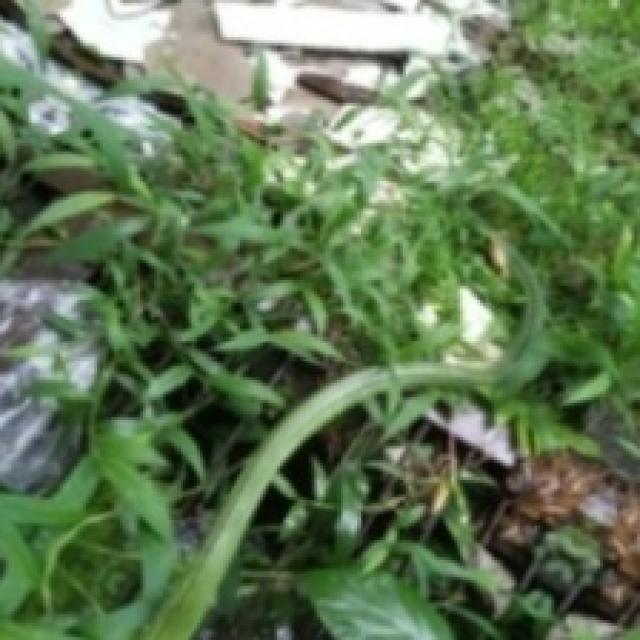red-tailed green ratsnake: (142, 234, 544, 639)
